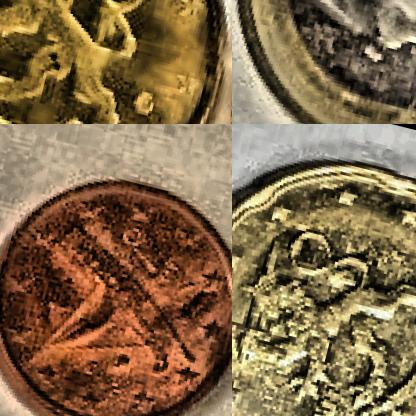coin: (0, 142, 231, 415), (232, 129, 415, 415), (0, 0, 231, 123), (232, 0, 415, 123)
